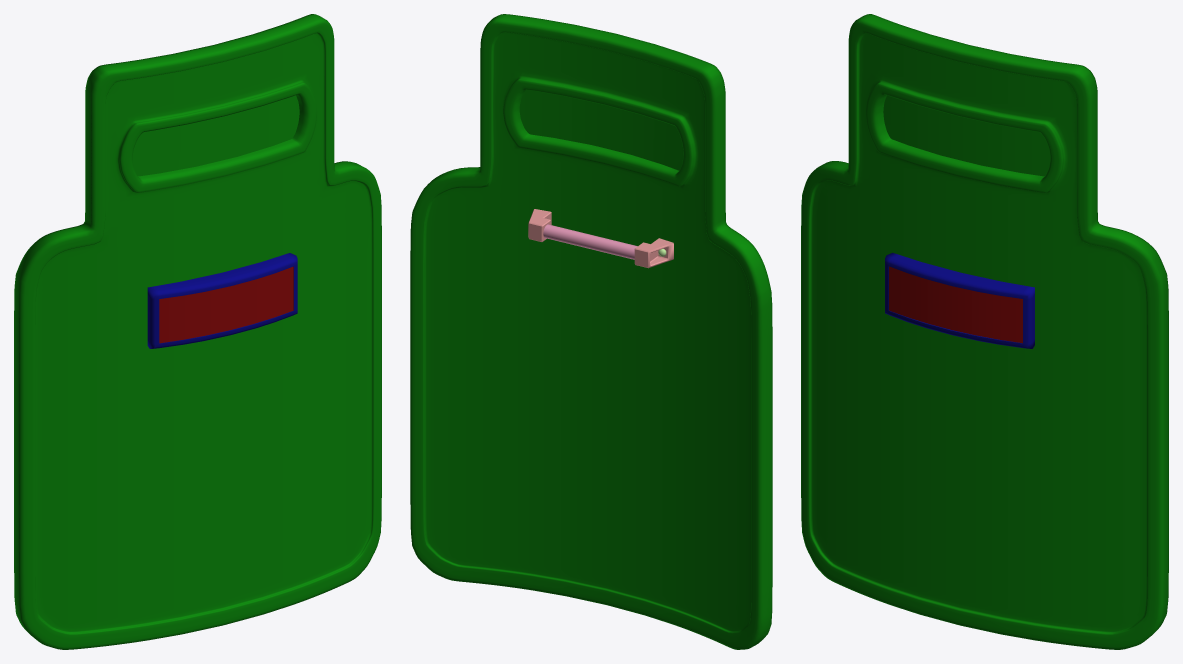
The model's file is BallisticShield.obj.
3 views of the same model, side by side, from view 1: azimuth 30°, elevation 25°; view 2: azimuth 150°, elevation 25°; view 3: azimuth 330°, elevation 25° (orthographic).
Visible parts, largest first — view 1: Plane001, Object001, Plane006, Box001; view 2: Plane001, Object001, Box002, Cylinder001; view 3: Plane001, Object001, Plane006, Box001.
Part boxes in pixels (bbox=[...]): Plane001: bbox=[14, 14, 381, 649]; Object001: bbox=[132, 95, 299, 176]; Plane006: bbox=[159, 266, 293, 343]; Box001: bbox=[147, 253, 297, 348]; Plane001: bbox=[410, 14, 772, 649]; Object001: bbox=[519, 89, 683, 170]; Box002: bbox=[528, 209, 673, 268]; Cylinder001: bbox=[543, 224, 637, 259]; Plane001: bbox=[801, 14, 1168, 649]; Object001: bbox=[883, 95, 1050, 176]; Plane006: bbox=[889, 266, 1022, 343]; Box001: bbox=[885, 252, 1034, 348].
Size of the model in its own units: 168 by 255 by 32.11.
